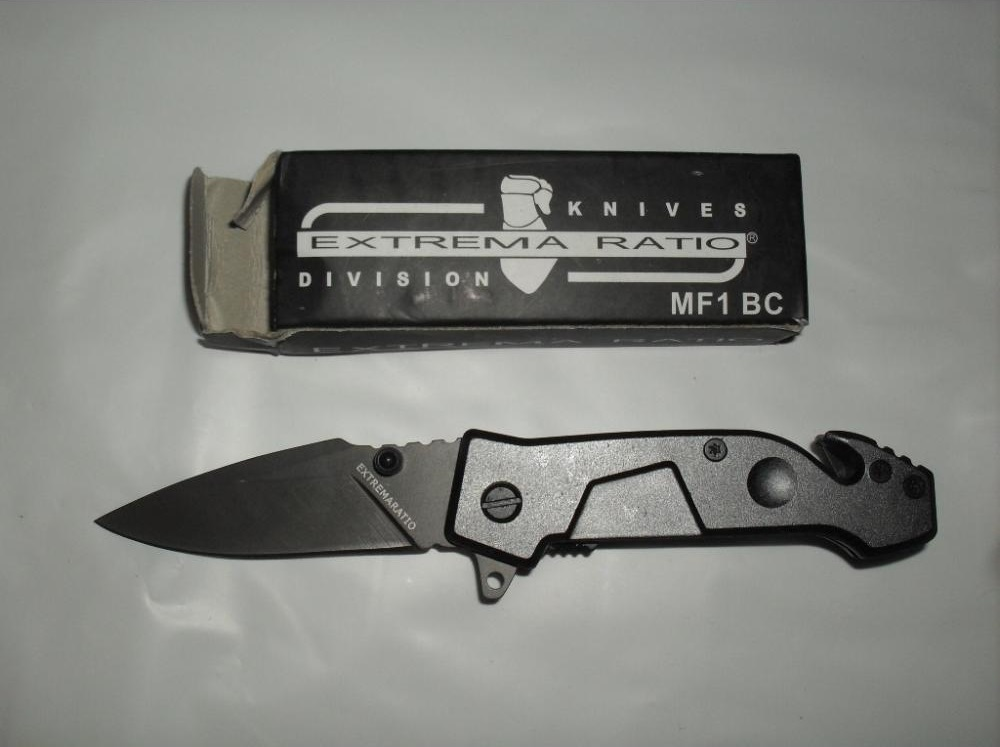knife: (80, 417, 631, 611)
